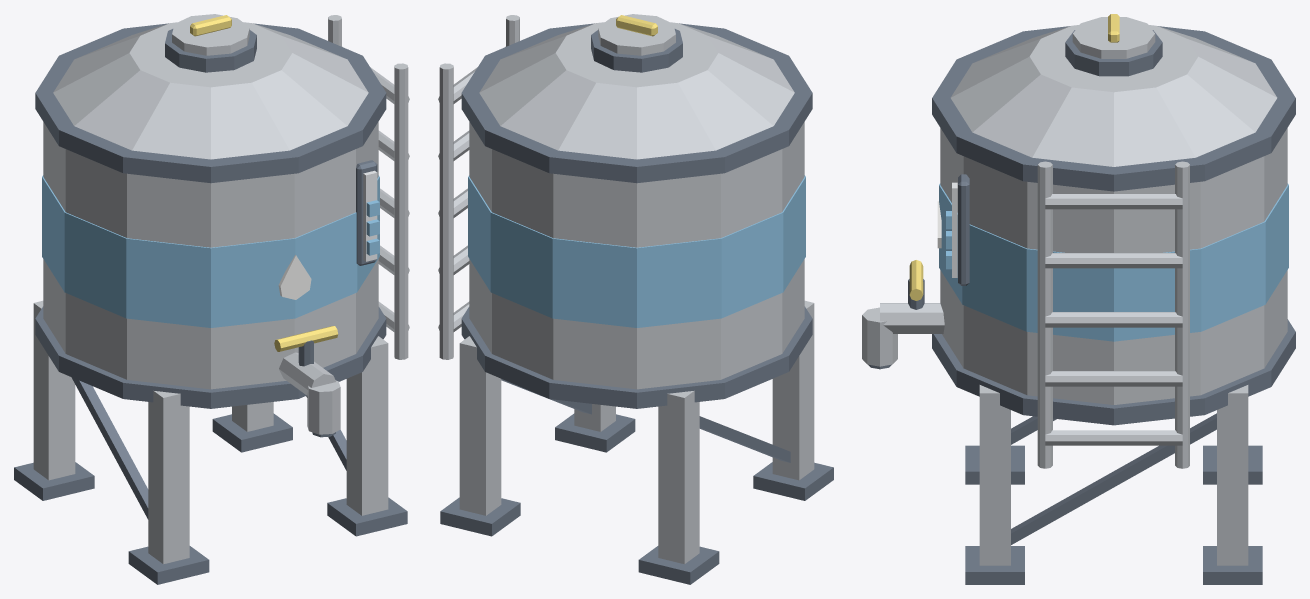
The model's file is prop_water_tank.glb.
The picture shows the model from 3 angles, left to right: view 1: azimuth 30°, elevation 25°; view 2: azimuth 150°, elevation 25°; view 3: azimuth 270°, elevation 25°; orthographic projection. The views are drawn at different scales.
Visible parts, largest first — view 1: prop_water_tank; view 2: prop_water_tank; view 3: prop_water_tank.
Part boxes in pixels (left/top/right/bottom): prop_water_tank: left=14, top=14, right=409, bottom=584; prop_water_tank: left=438, top=14, right=833, bottom=584; prop_water_tank: left=862, top=14, right=1295, bottom=584.
Size of the model in its own units: 0.554 by 0.8025 by 0.632.
